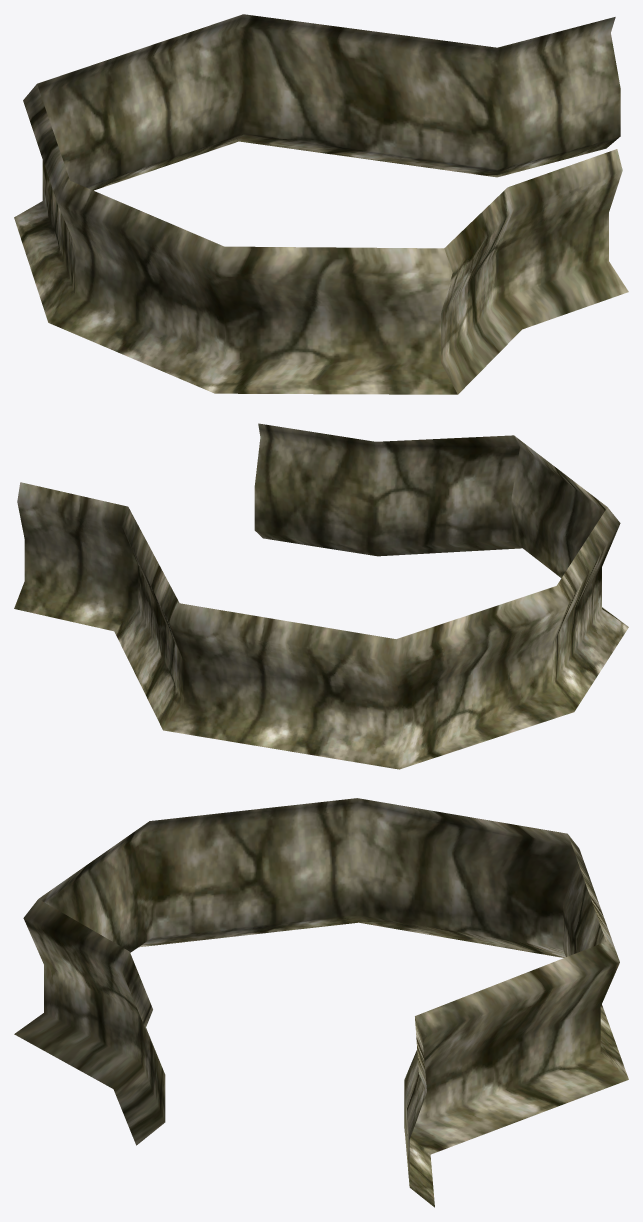
The model's file is CB_NEWPLAYSURFACE_CB_PLAYSURFACE127.fbx.
3 renders of one model, top to bottom at view 1: azimuth 30°, elevation 25°; view 2: azimuth 150°, elevation 25°; view 3: azimuth 270°, elevation 25°, orthographic. The views are drawn at different scales.
Parts seen in each view (by area): view 1: CB_NEWPLAYSURFACE_CB_PLAYSURFACE127; view 2: CB_NEWPLAYSURFACE_CB_PLAYSURFACE127; view 3: CB_NEWPLAYSURFACE_CB_PLAYSURFACE127.
Boxes of the visible parts, x1,y1,x2,y2 form: CB_NEWPLAYSURFACE_CB_PLAYSURFACE127: (14, 14, 628, 394); CB_NEWPLAYSURFACE_CB_PLAYSURFACE127: (14, 423, 628, 769); CB_NEWPLAYSURFACE_CB_PLAYSURFACE127: (14, 798, 628, 1207).
Bounding box in the file's own units: 134465 × 29558 × 122334.
Materials: 2 (2 with a texture image).
